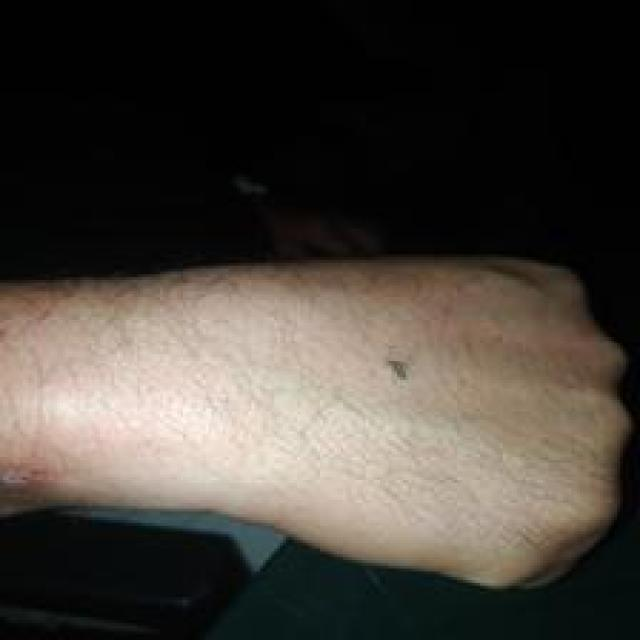Culex: (0, 508, 251, 640)
